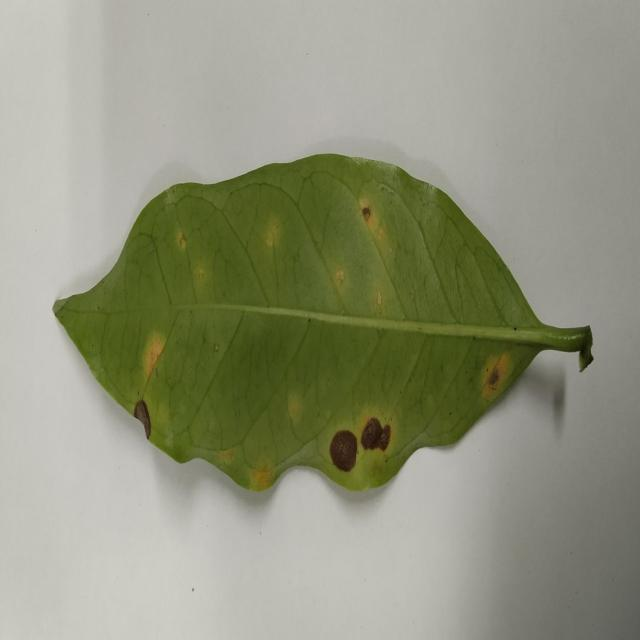Enfermedad-Mancha-de-hierro: (52, 153, 594, 498)
